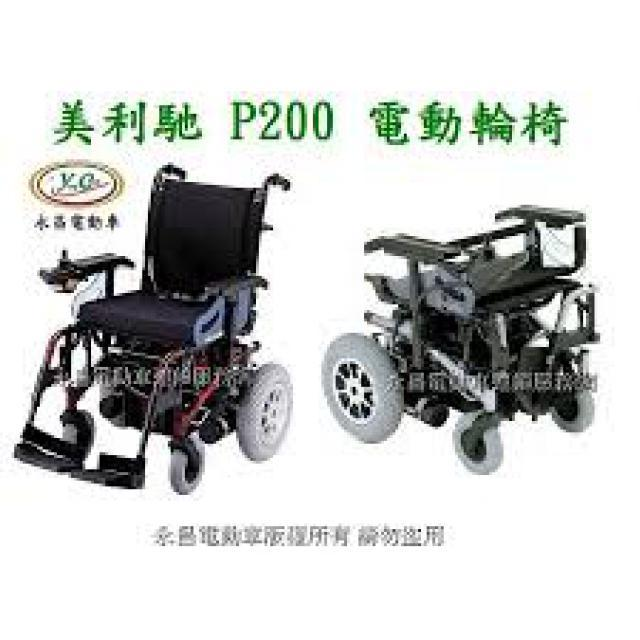wheelchair: (3, 162, 299, 495), (313, 190, 609, 476)
